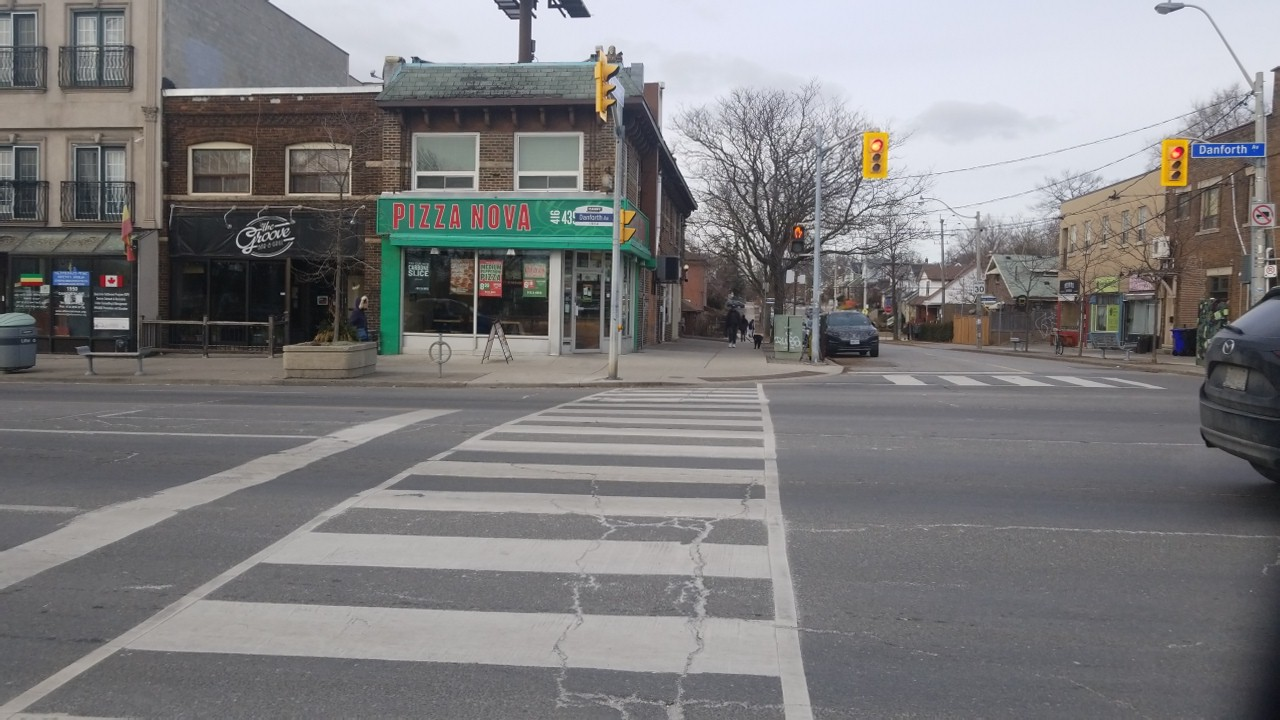light: (789, 223, 805, 256)
